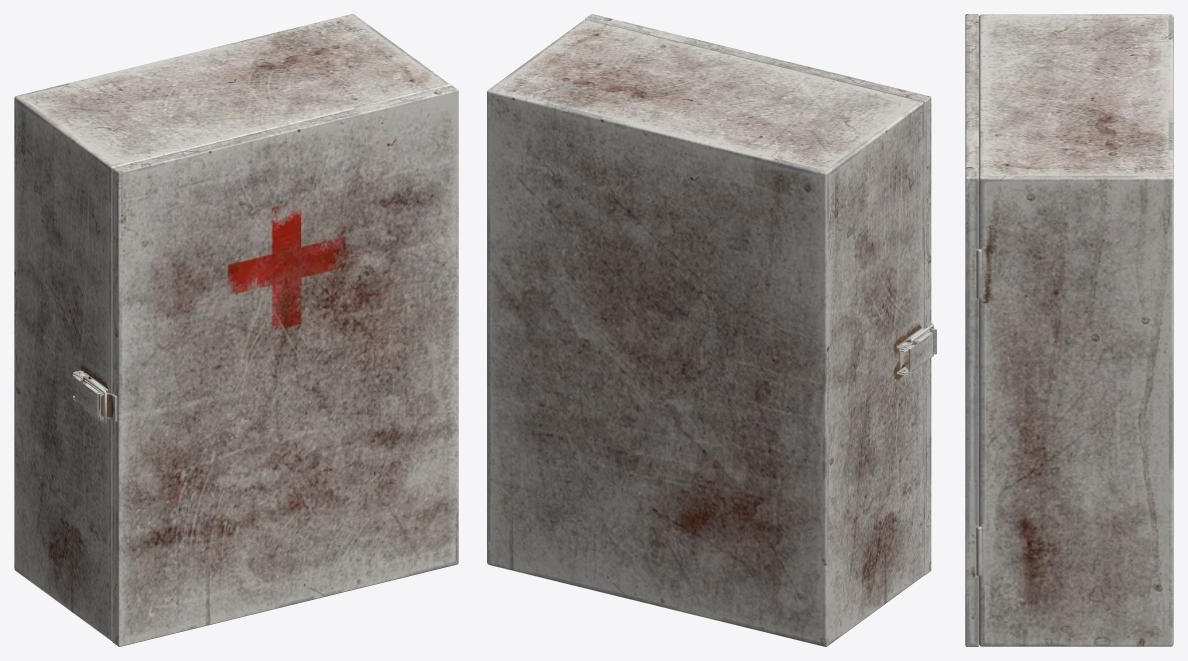
File: medicine_cabinet_old.glb
The picture shows the model from 3 angles, left to right: view 1: azimuth 30°, elevation 25°; view 2: azimuth 150°, elevation 25°; view 3: azimuth 270°, elevation 25°; orthographic projection.
Visible parts, largest first — view 1: MedicineCabinet_01_Material_0; view 2: MedicineCabinet_01_Material_0; view 3: MedicineCabinet_01_Material_0.
Part boxes in pixels (x1,y1,x2,y2): MedicineCabinet_01_Material_0: (14, 14, 458, 646); MedicineCabinet_01_Material_0: (487, 14, 936, 646); MedicineCabinet_01_Material_0: (965, 14, 1173, 646).
Bounding box in the file's own units: 0.3414 × 0.4369 × 0.1754.
Materials: 1 (1 with a texture image).
